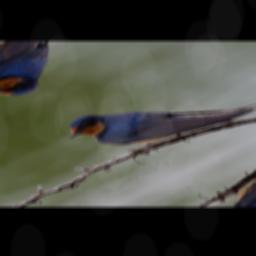Swallow: (52, 58, 256, 172)
